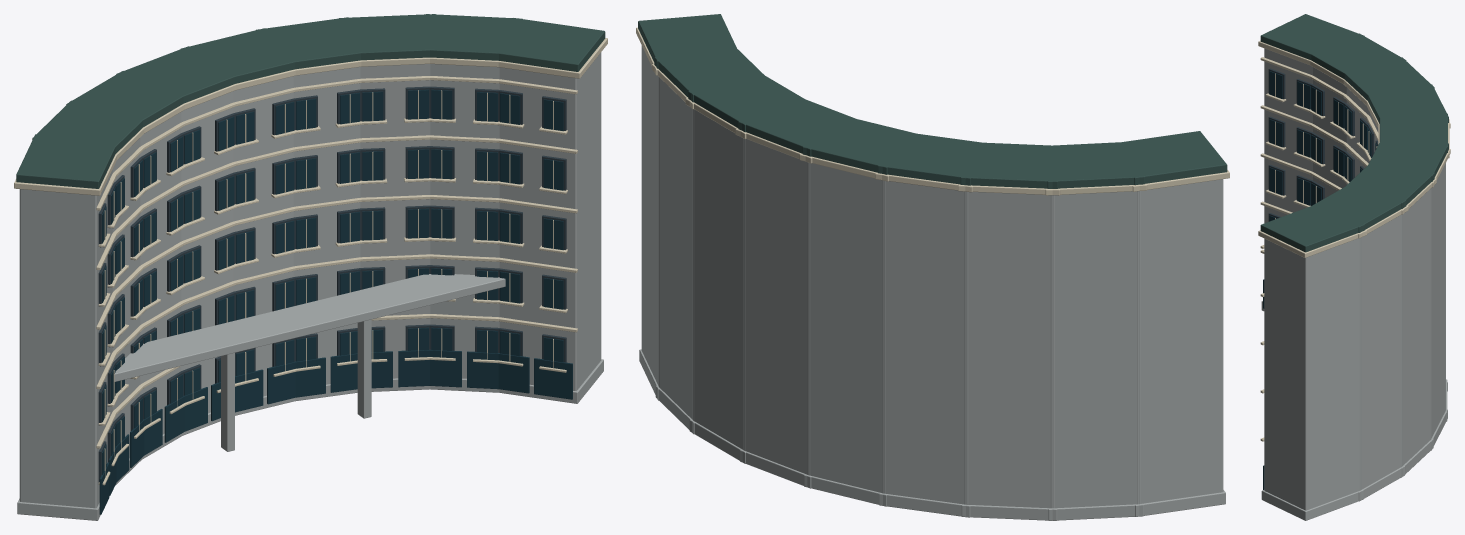
Rendered from kotti-housing.glb.
3 views of the same model, side by side, from view 1: azimuth 30°, elevation 25°; view 2: azimuth 150°, elevation 25°; view 3: azimuth 270°, elevation 25° (orthographic). The views are drawn at different scales.
Parts seen in each view (by area): view 1: DC_Mesh_DC_Concrete, DC_Mesh_DC_BlueGlass, DC_Mesh_DC_Roof, DC_Mesh_DC_Ivory, DC_Mesh_DC_Steel; view 2: DC_Mesh_DC_Concrete, DC_Mesh_DC_Roof, DC_Mesh_DC_Ivory; view 3: DC_Mesh_DC_Concrete, DC_Mesh_DC_Roof, DC_Mesh_DC_Ivory, DC_Mesh_DC_BlueGlass, DC_Mesh_DC_Steel.
Part boxes in pixels (<box>): DC_Mesh_DC_Concrete: <box>17,52,603,520</box>; DC_Mesh_DC_BlueGlass: <box>99,89,572,514</box>; DC_Mesh_DC_Roof: <box>16,14,605,188</box>; DC_Mesh_DC_Ivory: <box>14,38,607,485</box>; DC_Mesh_DC_Steel: <box>98,86,566,482</box>; DC_Mesh_DC_Concrete: <box>639,45,1225,520</box>; DC_Mesh_DC_Roof: <box>638,14,1227,188</box>; DC_Mesh_DC_Ivory: <box>636,27,1229,195</box>; DC_Mesh_DC_Concrete: <box>1261,48,1447,520</box>; DC_Mesh_DC_Roof: <box>1260,14,1448,252</box>; DC_Mesh_DC_Ivory: <box>1258,40,1450,441</box>; DC_Mesh_DC_BlueGlass: <box>1263,71,1377,489</box>; DC_Mesh_DC_Steel: <box>1268,68,1378,221</box>.
Size of the model in its own units: 26.11 by 14.29 by 9.05.
